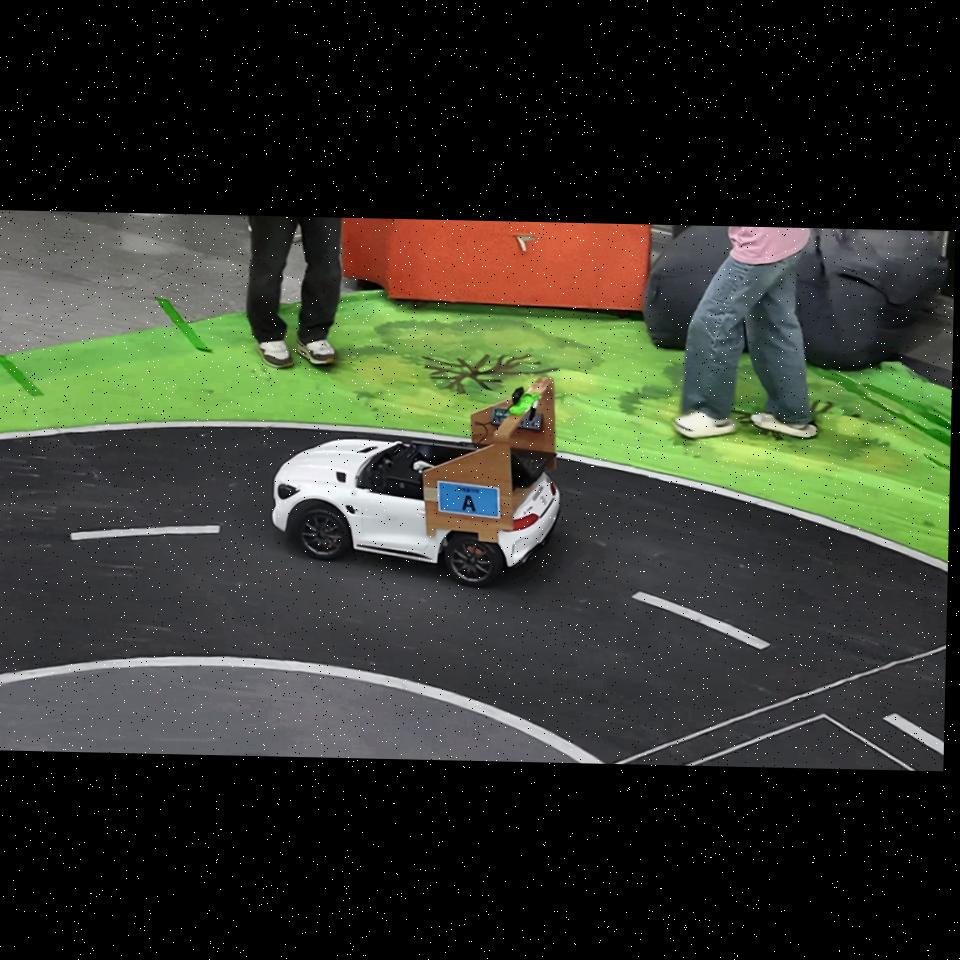broken_line: (631, 591, 771, 650), (881, 712, 944, 756), (70, 525, 221, 541)
